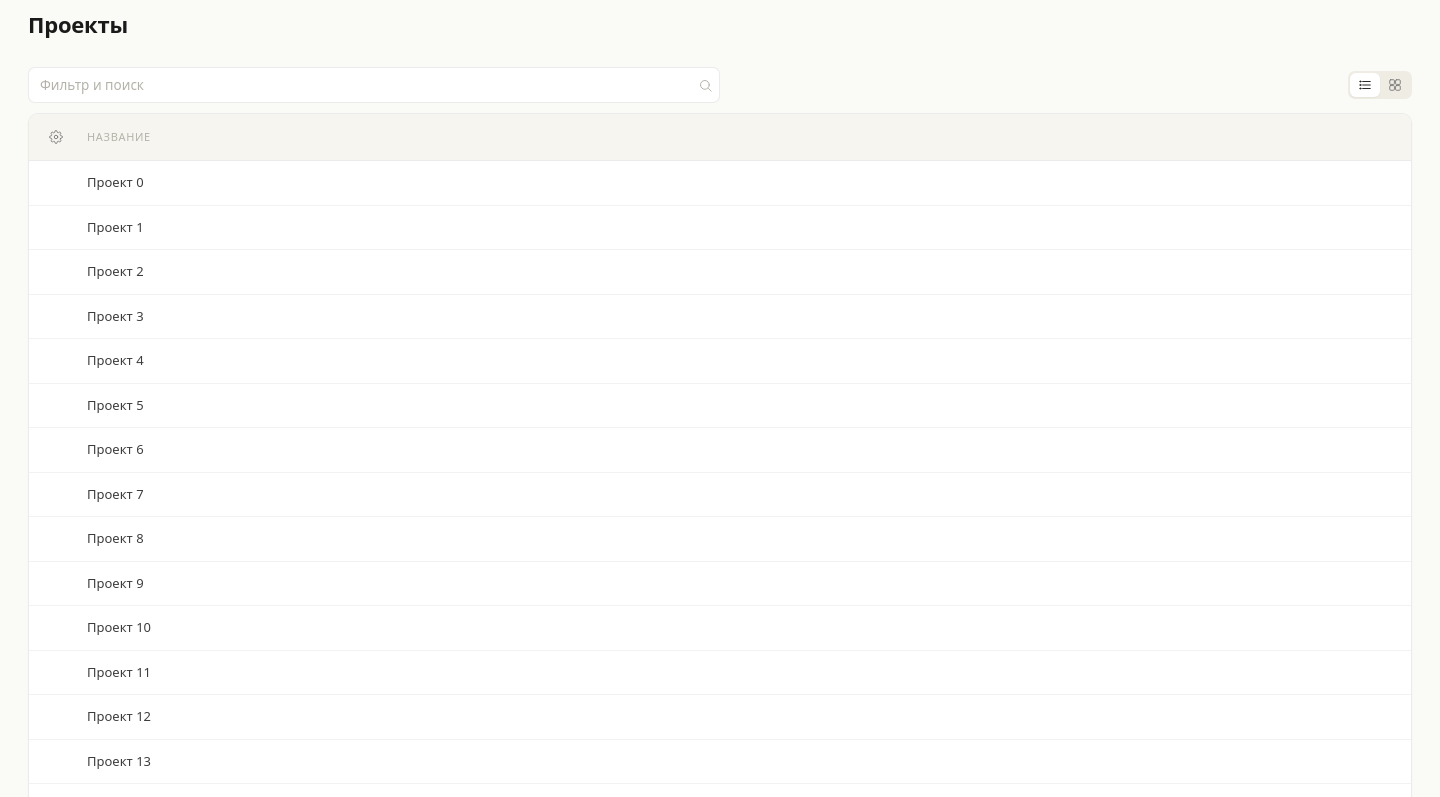
ListPage — карточки и таблица без пагинации › пока сентинел в кадре — догружает всё, а не застревает на второй порции
Click the button titled "Карточки" at coordinates (1395, 85), box [1380,73,1410,97]
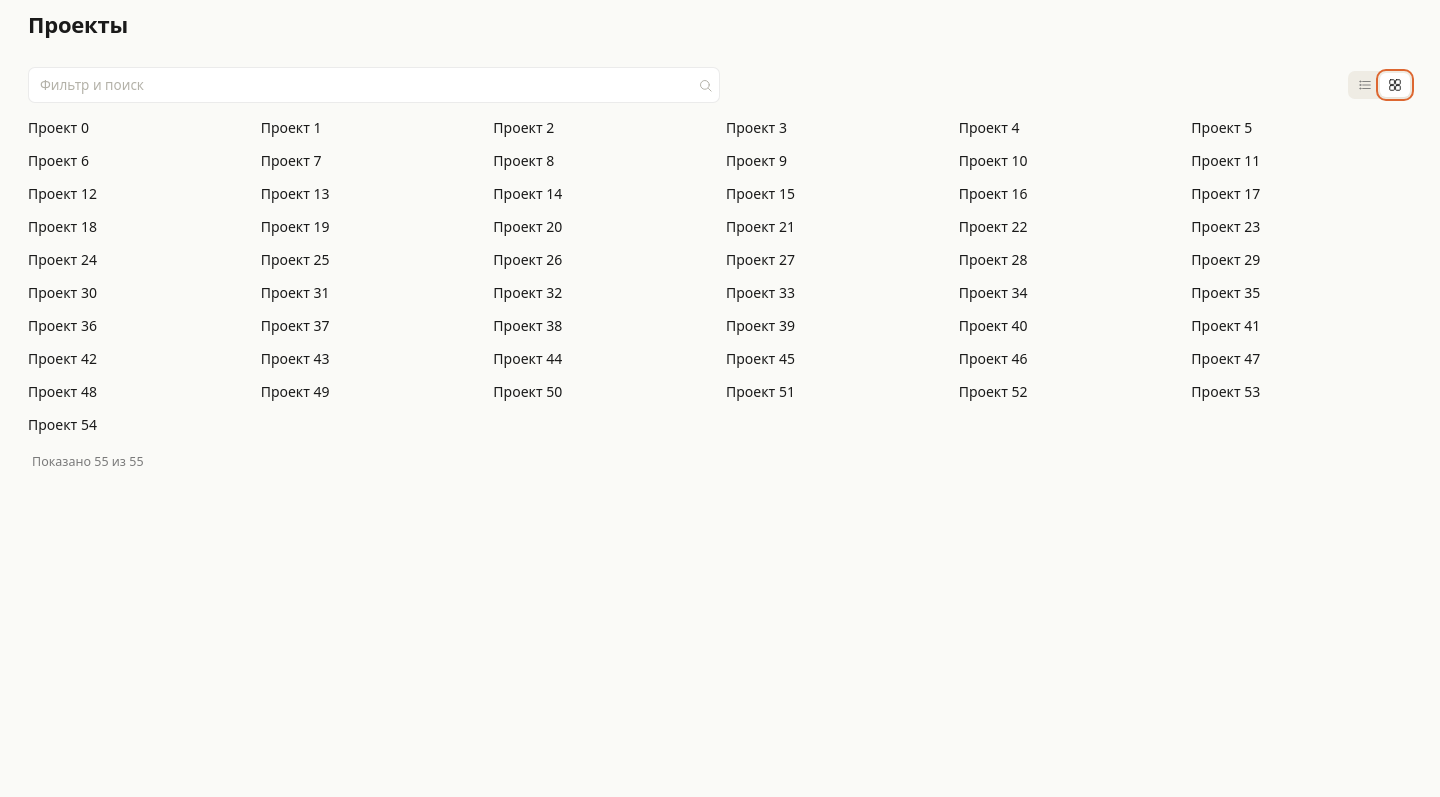
Expected: the number of elements with test id "card" is 55
